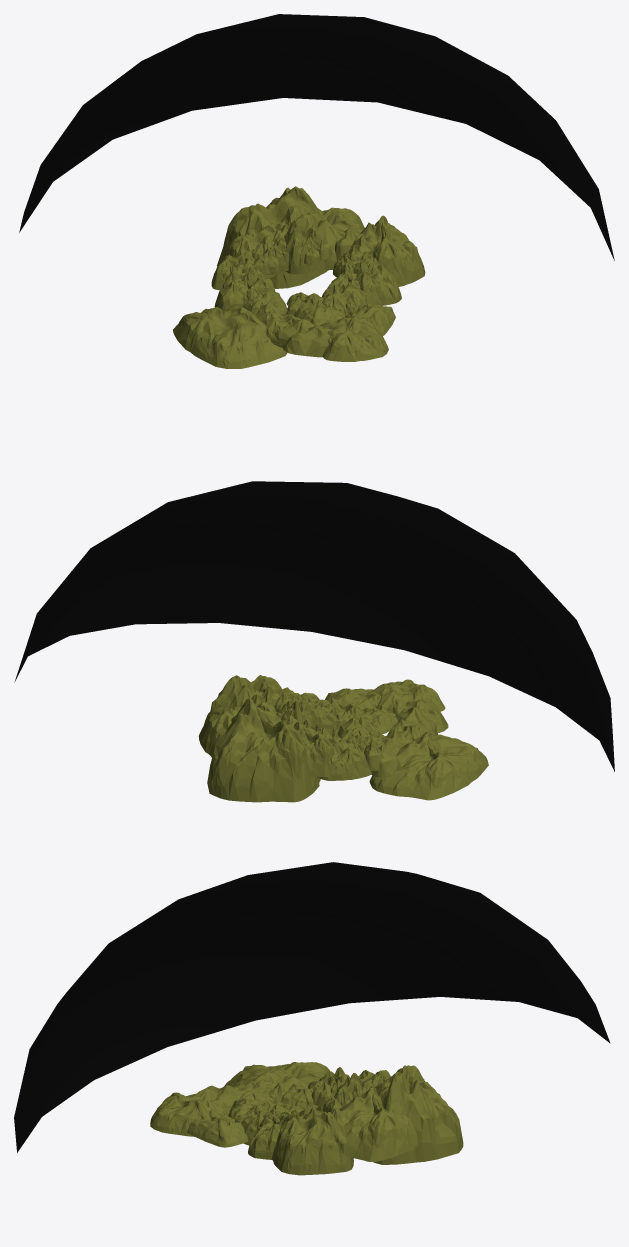
File: terrain.glb
3 renders of one model, top to bottom at view 1: azimuth 30°, elevation 25°; view 2: azimuth 150°, elevation 25°; view 3: azimuth 270°, elevation 25°, orthographic.
Parts seen in each view (by area): view 1: SM_Env_Skydome_01 (2), SM_Env_Mountains_Grass_01 (8), SM_Env_Mountains_Snow_01 (11), SM_Env_Mountains_Snow_01 (7), SM_Env_Mountains_Grass_01 (7), SM_Env_Mountains_Snow_01 (6), SM_Env_Mountains_Snow_01, SM_Env_Mountains_Snow_01 (8), SM_Env_Mountains_Grass_02 (5), SM_Env_Mountains_Snow_01 (5), SM_Env_Mountains_Grass_01, SM_Env_Mountains_Snow_01 (10) (+3 smaller); view 2: SM_Env_Skydome_01 (2), SM_Env_Mountains_Snow_01 (11), SM_Env_Mountains_Grass_01 (8), SM_Env_Mountains_Grass_01 (7), SM_Env_Mountains_Snow_01 (10), SM_Env_Mountains_Snow_01 (7), SM_Env_Mountains_Snow_01 (5), SM_Env_Mountains_Snow_01 (6), SM_Env_Mountains_Grass_01 (9), SM_Env_Mountains_Grass_01 (1), SM_Env_Mountains_Grass_01 (2), SM_Env_Mountains_Grass_02 (5) (+5 smaller); view 3: SM_Env_Skydome_01 (2), SM_Env_Mountains_Snow_01 (11), SM_Env_Mountains_Snow_01 (7), SM_Env_Mountains_Snow_01 (6), SM_Env_Mountains_Grass_01 (7), SM_Env_Mountains_Grass_01 (8), SM_Env_Mountains_Grass_01 (9), SM_Env_Mountains_Snow_01 (8), SM_Env_Mountains_Grass_01 (5), SM_Env_Mountains_Grass_01, SM_Env_Mountains_Grass_01 (4), SM_Env_Mountains_Snow_01.
Part boxes in pixels (box(x1,y1,x2,y2)): SM_Env_Skydome_01 (2): box(19, 14, 614, 260); SM_Env_Mountains_Grass_01 (8): box(173, 305, 287, 368); SM_Env_Mountains_Snow_01 (11): box(217, 186, 328, 288); SM_Env_Mountains_Snow_01 (7): box(359, 215, 425, 286); SM_Env_Mountains_Grass_01 (7): box(320, 315, 388, 361); SM_Env_Mountains_Snow_01 (6): box(296, 207, 364, 269); SM_Env_Mountains_Snow_01: box(284, 220, 325, 274); SM_Env_Mountains_Snow_01 (8): box(354, 257, 401, 305); SM_Env_Mountains_Grass_02 (5): box(282, 326, 331, 357); SM_Env_Mountains_Snow_01 (5): box(227, 225, 276, 278); SM_Env_Mountains_Grass_01: box(322, 283, 368, 315); SM_Env_Mountains_Snow_01 (10): box(211, 250, 254, 290); SM_Env_Skydome_01 (2): box(14, 481, 614, 771); SM_Env_Mountains_Snow_01 (11): box(207, 698, 320, 802); SM_Env_Mountains_Grass_01 (8): box(369, 731, 488, 800); SM_Env_Mountains_Grass_01 (7): box(366, 679, 445, 716); SM_Env_Mountains_Snow_01 (10): box(317, 738, 371, 780); SM_Env_Mountains_Snow_01 (7): box(210, 675, 281, 711); SM_Env_Mountains_Snow_01 (5): box(293, 721, 334, 776); SM_Env_Mountains_Snow_01 (6): box(198, 702, 280, 757); SM_Env_Mountains_Grass_01 (9): box(325, 688, 381, 710); SM_Env_Mountains_Grass_01 (1): box(353, 708, 398, 734); SM_Env_Mountains_Grass_01 (2): box(307, 699, 334, 728); SM_Env_Mountains_Grass_02 (5): box(405, 699, 448, 733); SM_Env_Skydome_01 (2): box(14, 862, 610, 1152); SM_Env_Mountains_Snow_01 (11): box(373, 1065, 463, 1164); SM_Env_Mountains_Snow_01 (7): box(271, 1112, 353, 1175); SM_Env_Mountains_Snow_01 (6): box(339, 1086, 418, 1161); SM_Env_Mountains_Grass_01 (7): box(150, 1092, 230, 1136); SM_Env_Mountains_Grass_01 (8): box(224, 1062, 329, 1113); SM_Env_Mountains_Grass_01 (9): box(187, 1109, 248, 1147); SM_Env_Mountains_Snow_01 (8): box(248, 1116, 284, 1159); SM_Env_Mountains_Grass_01 (5): box(233, 1079, 277, 1102); SM_Env_Mountains_Grass_01: box(235, 1104, 271, 1145); SM_Env_Mountains_Grass_01 (4): box(281, 1084, 318, 1110); SM_Env_Mountains_Snow_01: box(334, 1073, 362, 1106).
Size of the model in its own units: 3268 by 1634 by 3239.
